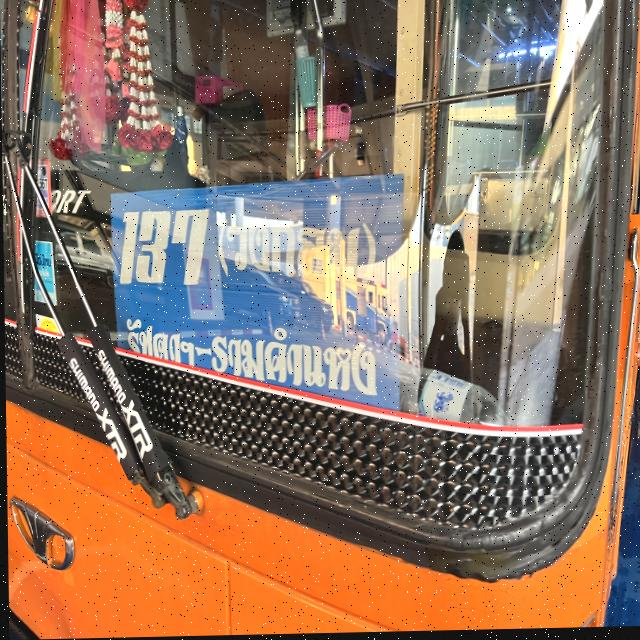BMTA-bus: (0, 0, 640, 640)
Destination-Sign-Normal: (110, 178, 406, 414)
